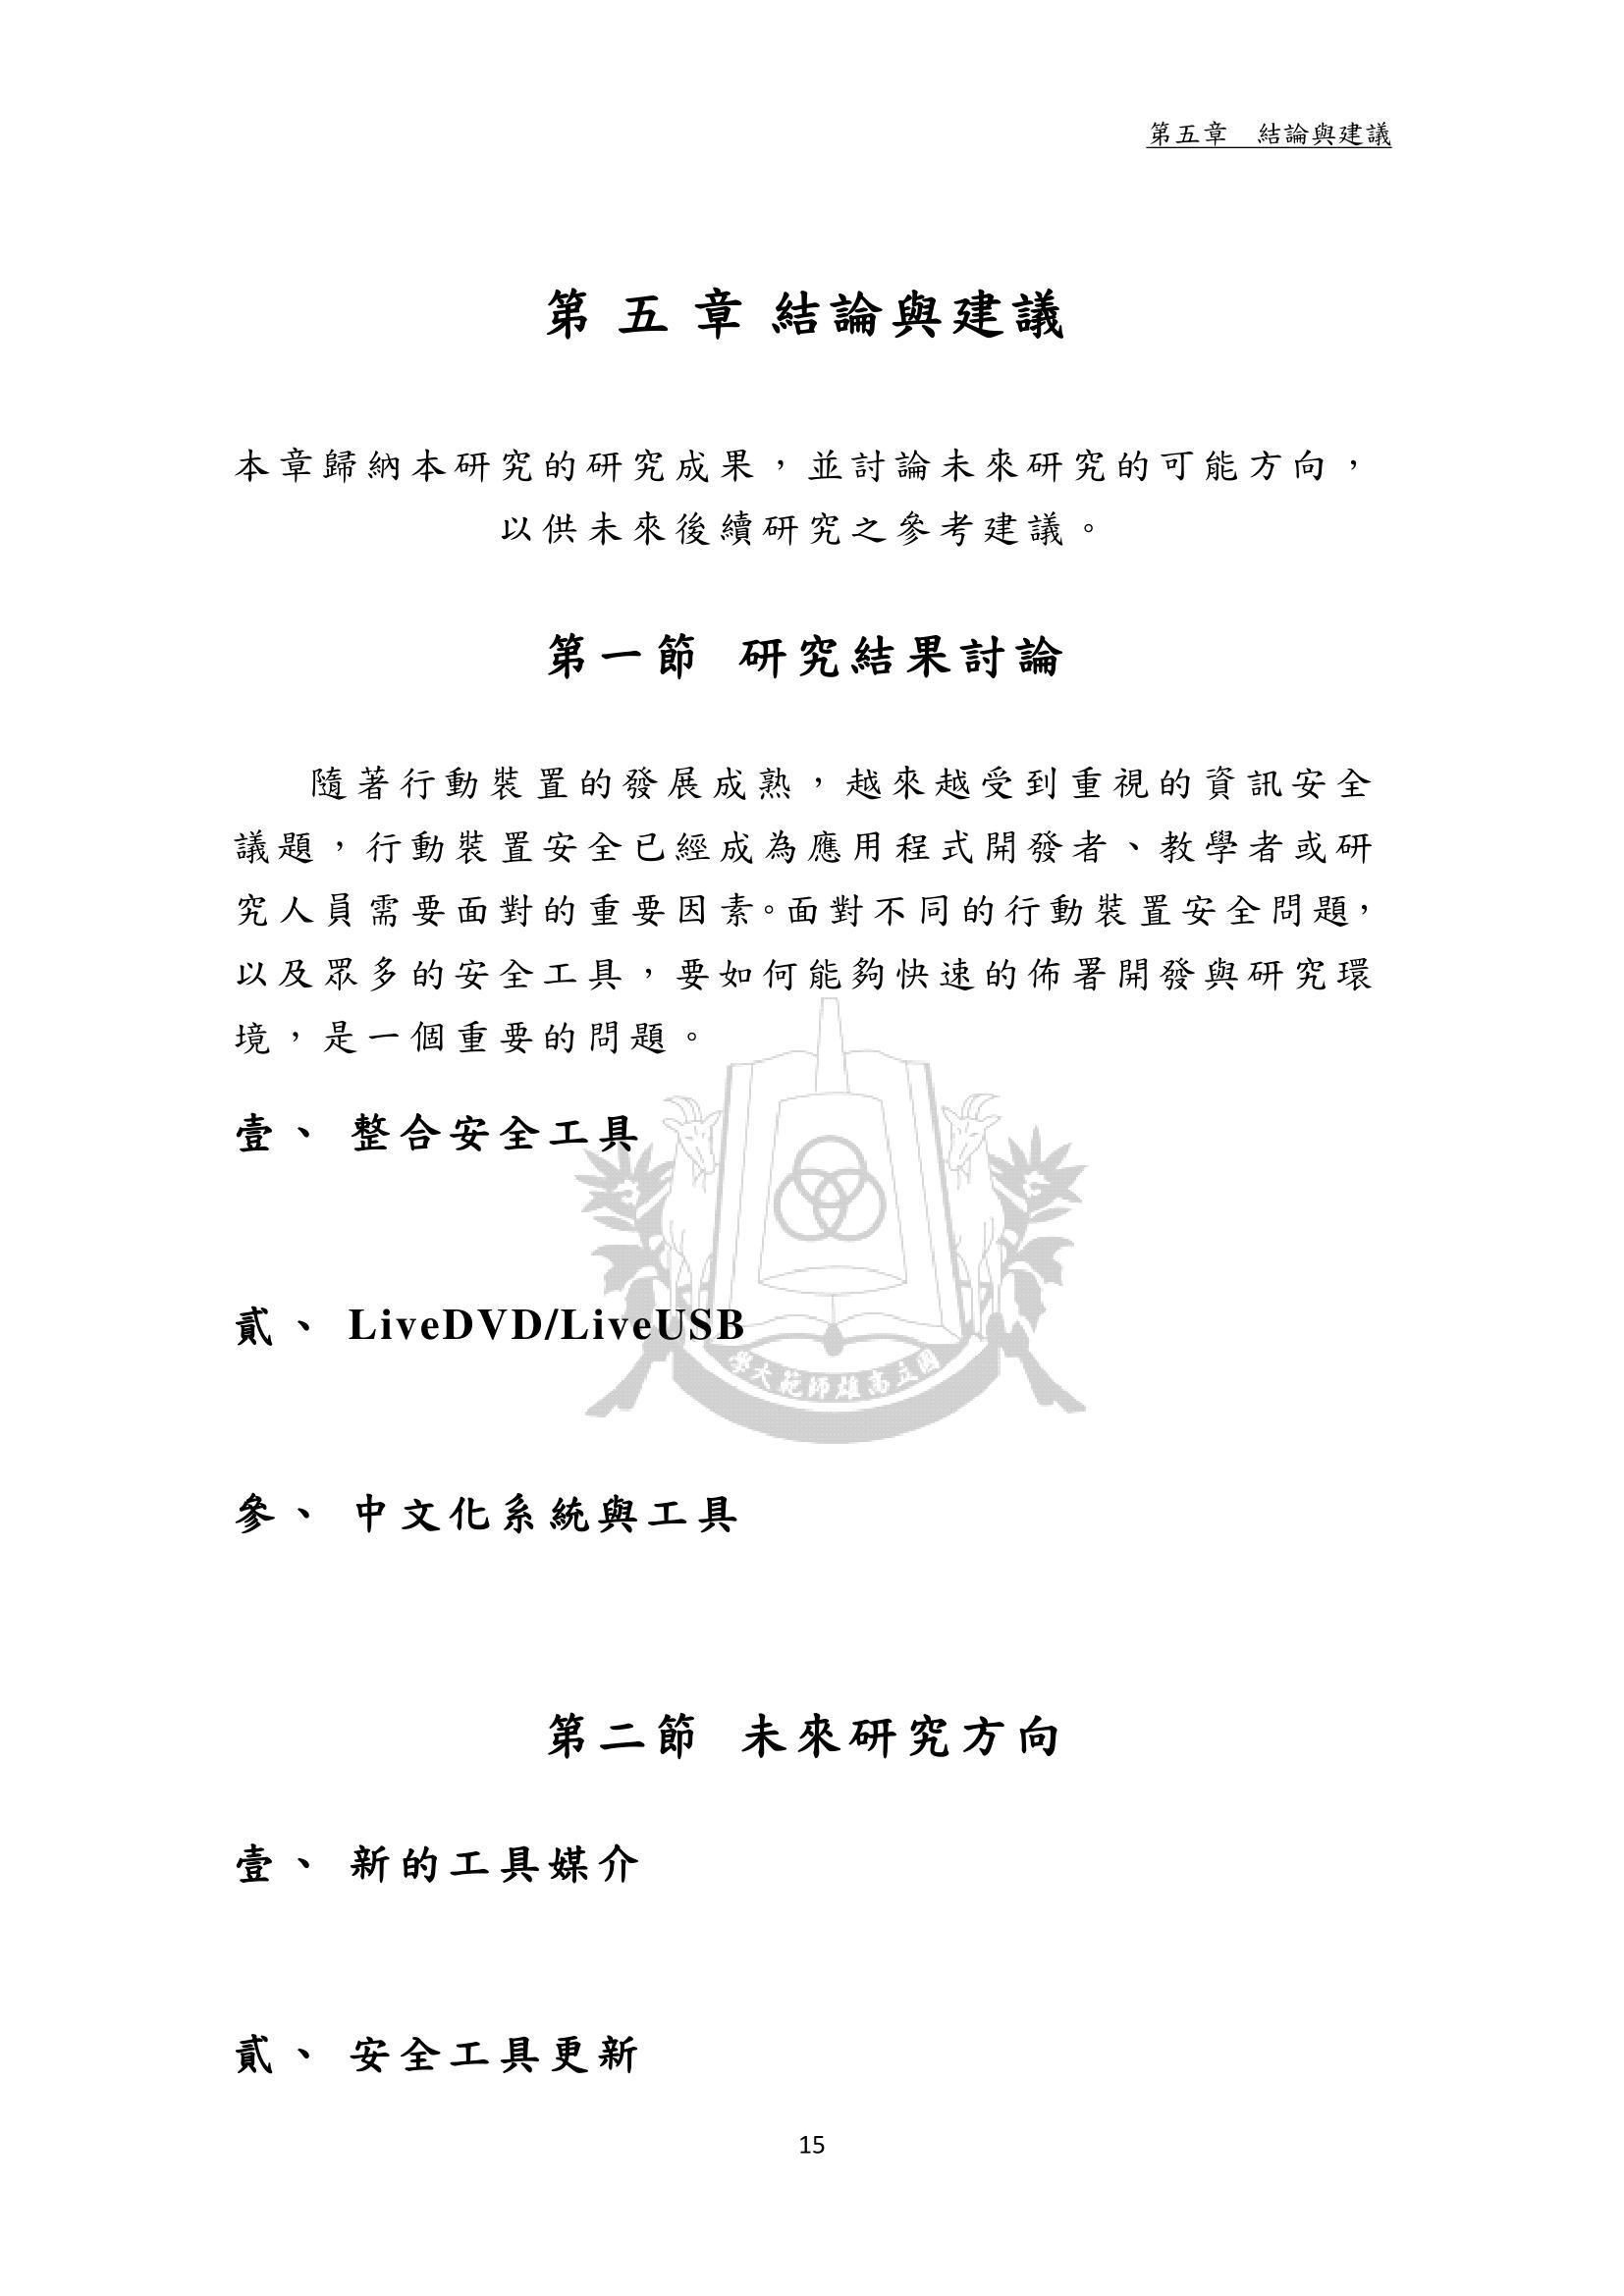text: (199, 747, 1406, 1080), (216, 432, 1399, 566), (526, 274, 1086, 367), (211, 1277, 758, 1367), (531, 611, 1070, 699), (522, 1695, 1083, 1774), (197, 1481, 759, 1556), (211, 2010, 657, 2097), (221, 1093, 663, 1175), (209, 1827, 647, 1899), (1141, 102, 1413, 165)
